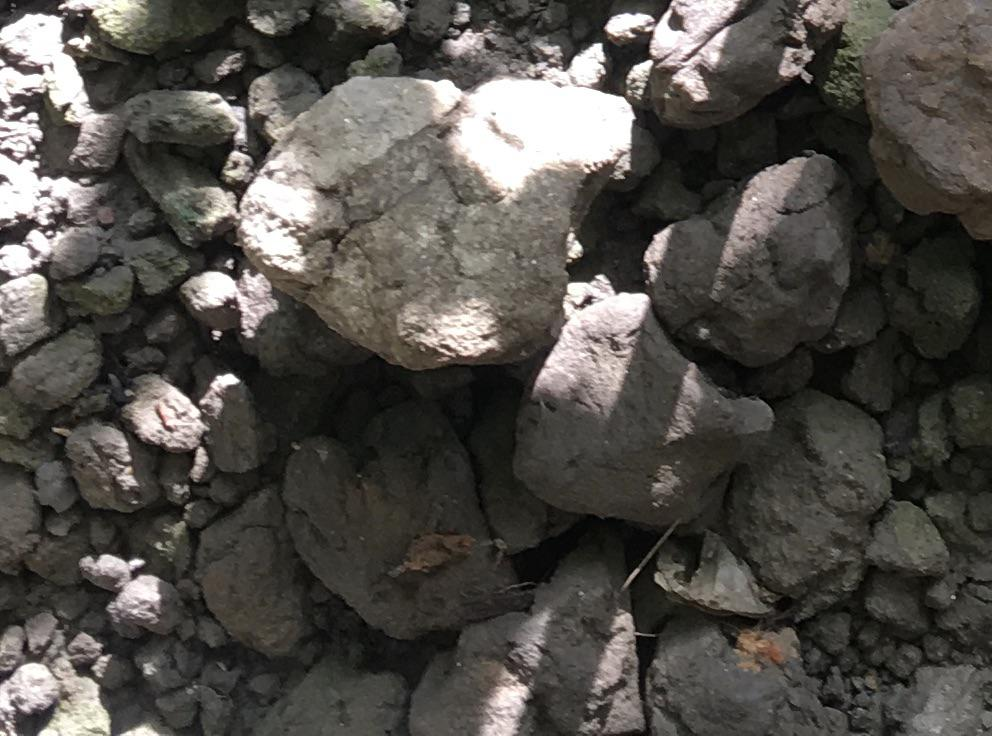block: (230, 72, 648, 368), (508, 294, 775, 539), (640, 153, 857, 370)
